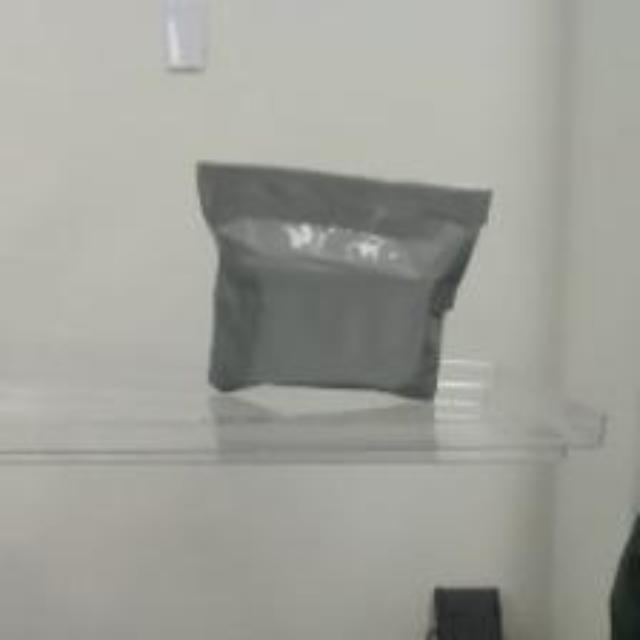mailer: (194, 159, 492, 405)
